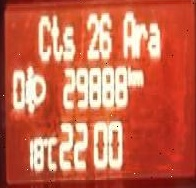0: (107, 117, 122, 169), (92, 117, 106, 167), (11, 66, 24, 108)
1: (27, 135, 33, 169)
2: (58, 119, 72, 171), (73, 119, 87, 169), (86, 9, 99, 60), (60, 66, 75, 108)
6: (98, 7, 112, 59)
8: (101, 62, 114, 107), (115, 62, 127, 107), (88, 64, 100, 107), (33, 133, 43, 171)
9: (74, 63, 88, 109)
X: (121, 7, 135, 57), (37, 13, 50, 61), (51, 11, 63, 62), (63, 18, 75, 60), (147, 19, 160, 57), (135, 20, 147, 55), (47, 132, 56, 173), (134, 68, 145, 87), (127, 61, 135, 86)
